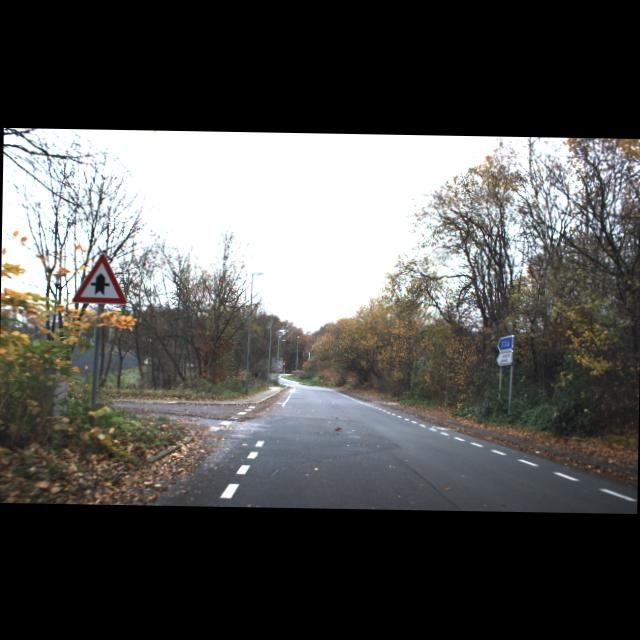danger: (72, 251, 129, 303)
